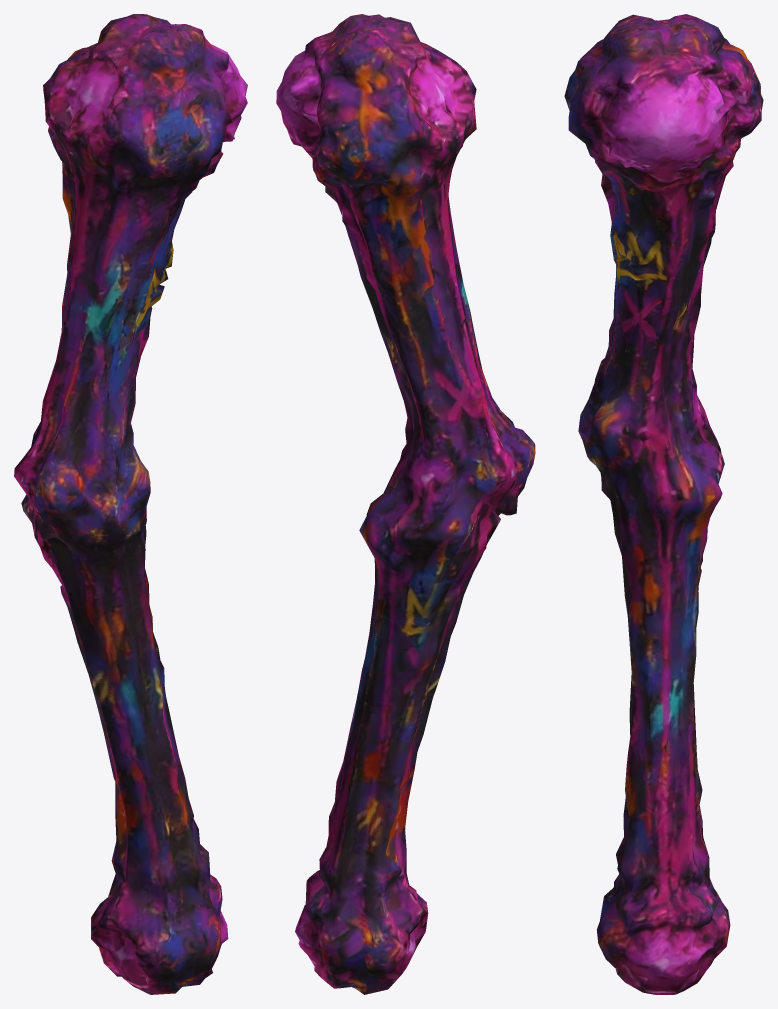
File: mutant_shin.glb
The picture shows the model from 3 angles, left to right: view 1: azimuth 30°, elevation 25°; view 2: azimuth 150°, elevation 25°; view 3: azimuth 270°, elevation 25°; orthographic projection.
Parts seen in each view (by area): view 1: mutant_shin; view 2: mutant_shin; view 3: mutant_shin.
Part boxes in pixels (box(x1,y1,x2,y2)): mutant_shin: box(14, 14, 247, 994); mutant_shin: box(276, 14, 535, 994); mutant_shin: box(564, 14, 763, 994).
Bounding box in the file's own units: 0.193 × 0.8 × 0.1502.
Materials: 1 (1 with a texture image).
